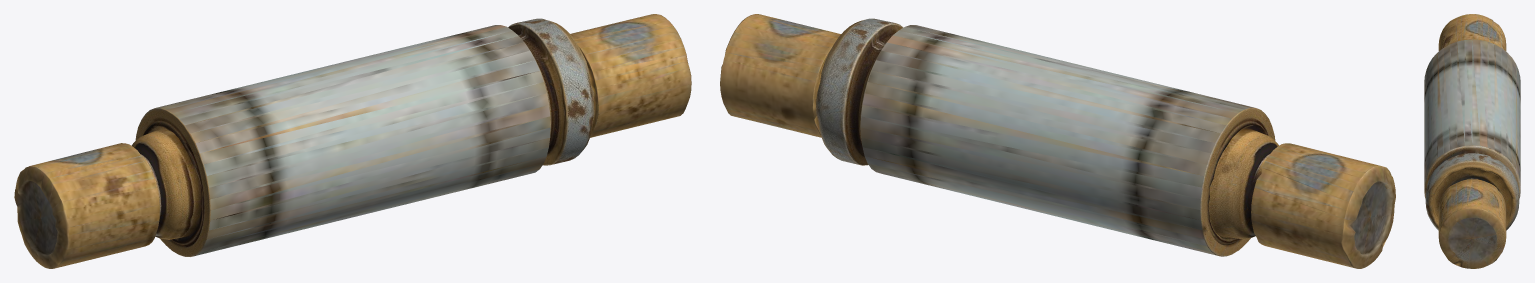
File: reactor-fuse-cartridge.glb
3 renders of one model, left to right at view 1: azimuth 30°, elevation 25°; view 2: azimuth 150°, elevation 25°; view 3: azimuth 270°, elevation 25°, orthographic. The views are drawn at different scales.
Visible parts, largest first — view 1: reactor-fuse-cartridge; view 2: reactor-fuse-cartridge; view 3: reactor-fuse-cartridge.
Boxes of the visible parts, bbox=[...] form: reactor-fuse-cartridge: bbox=[14, 14, 691, 268]; reactor-fuse-cartridge: bbox=[720, 14, 1395, 268]; reactor-fuse-cartridge: bbox=[1424, 14, 1520, 268].
Size of the model in its own units: 0.3 by 0.0623 by 0.062.
Materials: 1 (1 with a texture image).
